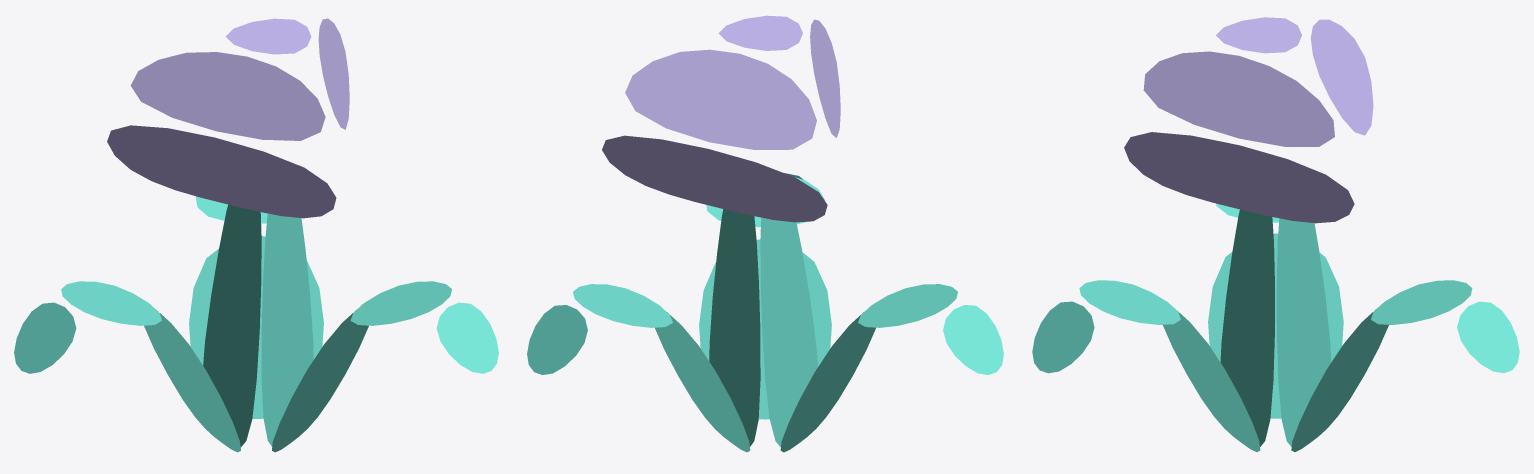
File: flower_purpleB.glb
The picture shows the model from 3 angles, left to right: view 1: azimuth 30°, elevation 25°; view 2: azimuth 150°, elevation 25°; view 3: azimuth 270°, elevation 25°; orthographic projection. The views are drawn at different scales.
Visible parts, largest first — view 1: flower_purpleB; view 2: flower_purpleB; view 3: flower_purpleB.
Part boxes in pixels (x1,y1,x2,y2): flower_purpleB: (14, 18, 498, 452); flower_purpleB: (527, 15, 1003, 452); flower_purpleB: (1032, 17, 1519, 451).
Size of the model in its own units: 0.2026 by 0.2085 by 0.228.
